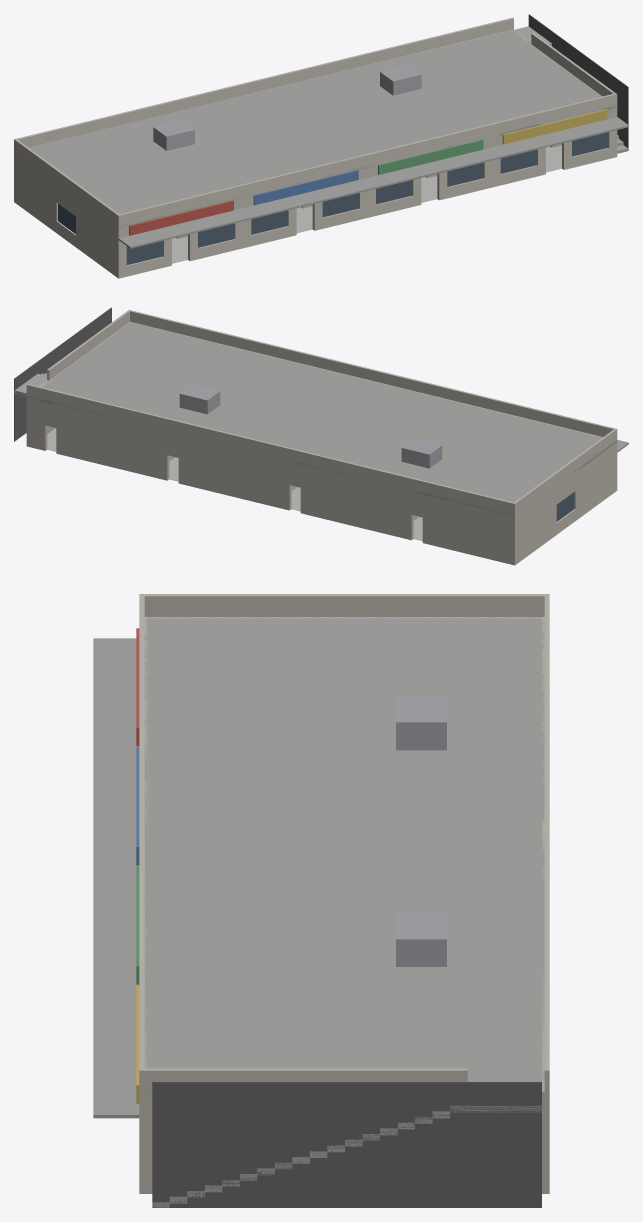
The model's file is strip-mall.lod0.glb.
The picture shows the model from 3 angles, top to bottom: view 1: azimuth 30°, elevation 25°; view 2: azimuth 150°, elevation 25°; view 3: azimuth 270°, elevation 25°; orthographic projection. The views are drawn at different scales.
Parts seen in each view (by area): view 1: strip-mall; view 2: strip-mall; view 3: strip-mall.
Part boxes in pixels (x1=…): strip-mall: x1=14, y1=14, x2=628, y2=278; strip-mall: x1=14, y1=307, x2=628, y2=565; strip-mall: x1=93, y1=594, x2=549, y2=1207.
Size of the model in its own units: 45.3 by 5.6 by 17.8.
